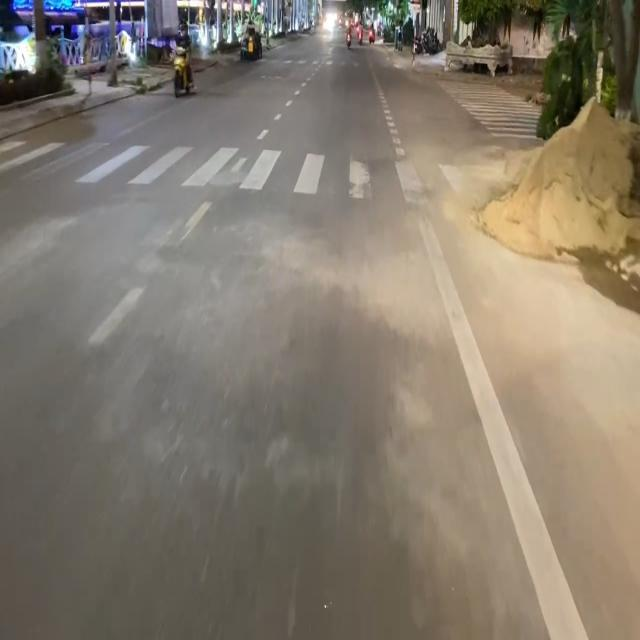walk-crossing: (0, 130, 505, 210)
